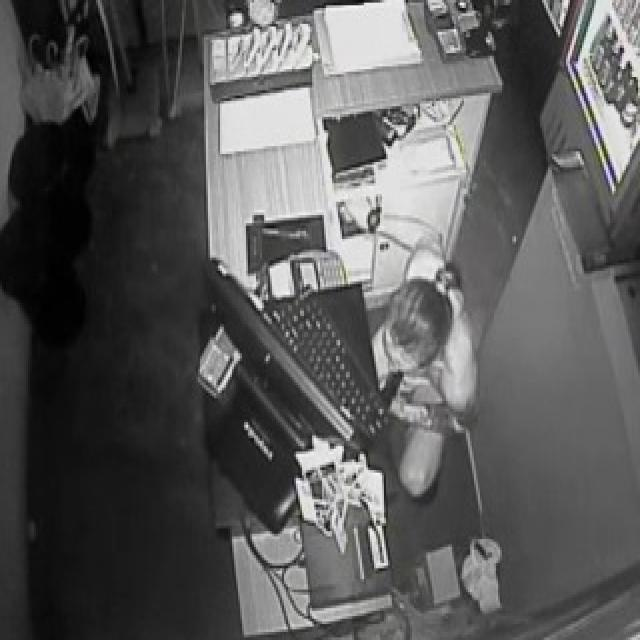thief: (360, 242, 476, 430)
